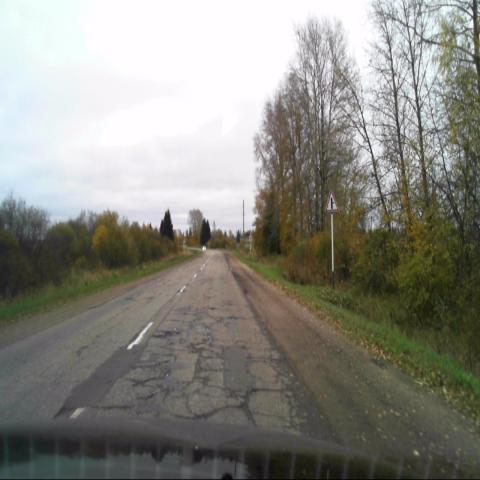2_3_2: (325, 188, 338, 212)
